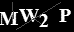2: (38, 14, 48, 27)
M: (1, 10, 19, 26)
P: (57, 8, 71, 23)
W: (17, 8, 39, 23)
